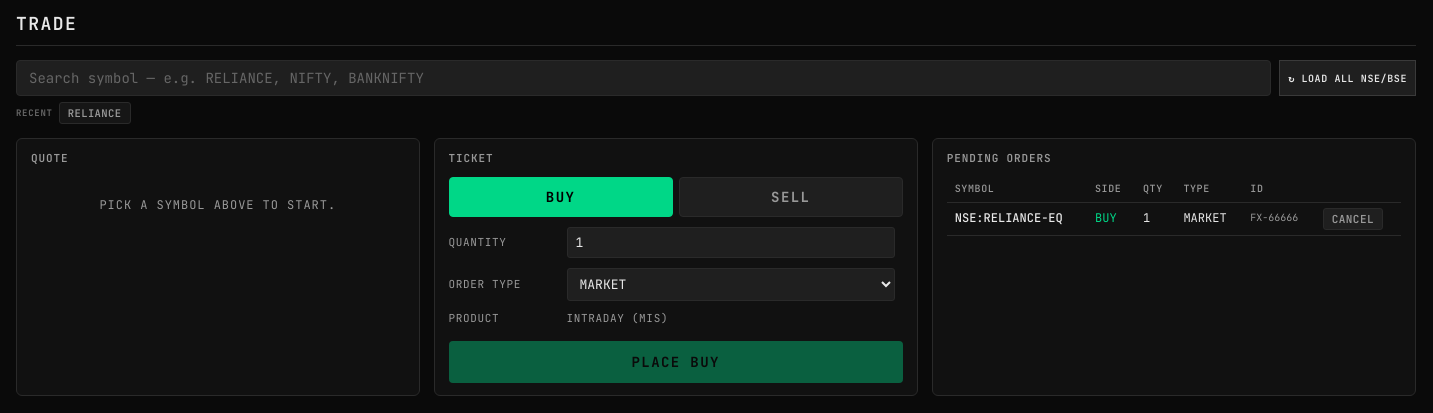
it: Trade page › surfaces a 500 with a plain-text body without crashing the fetch wrapper
Step 1. Click the button with test id "cancel-FX-66666" → coordinates (1353, 218), box [1323, 208, 1383, 230]
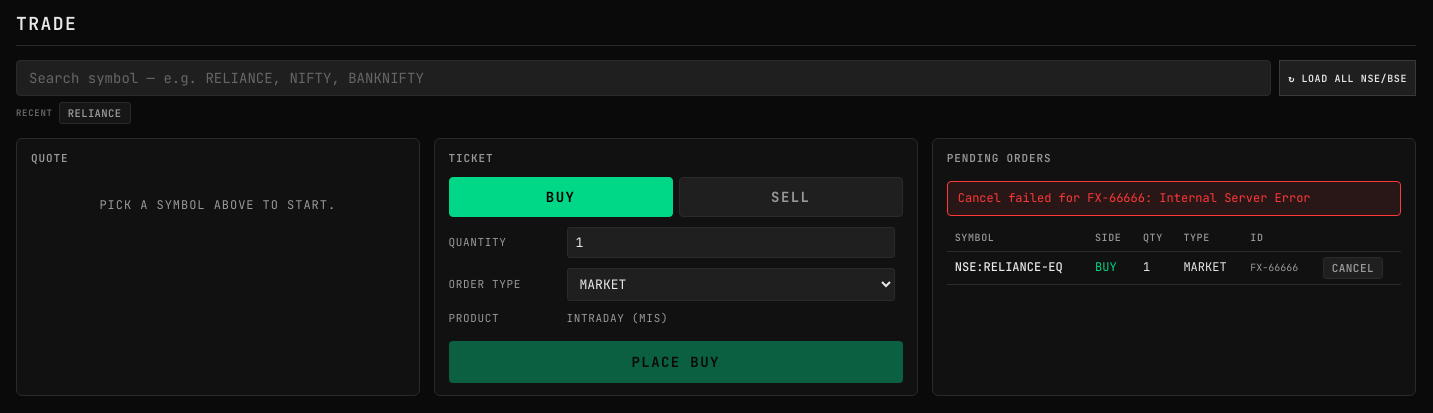
Result: the text with test id "cancel-result" shows "Cancel failed" at [958, 190, 1311, 206]
